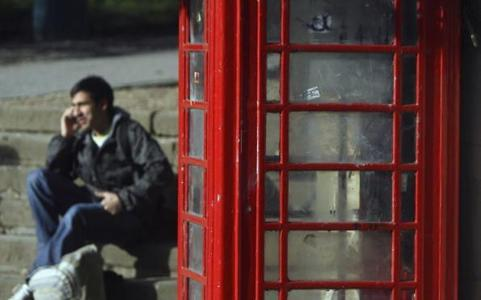person: (6, 75, 180, 300)
